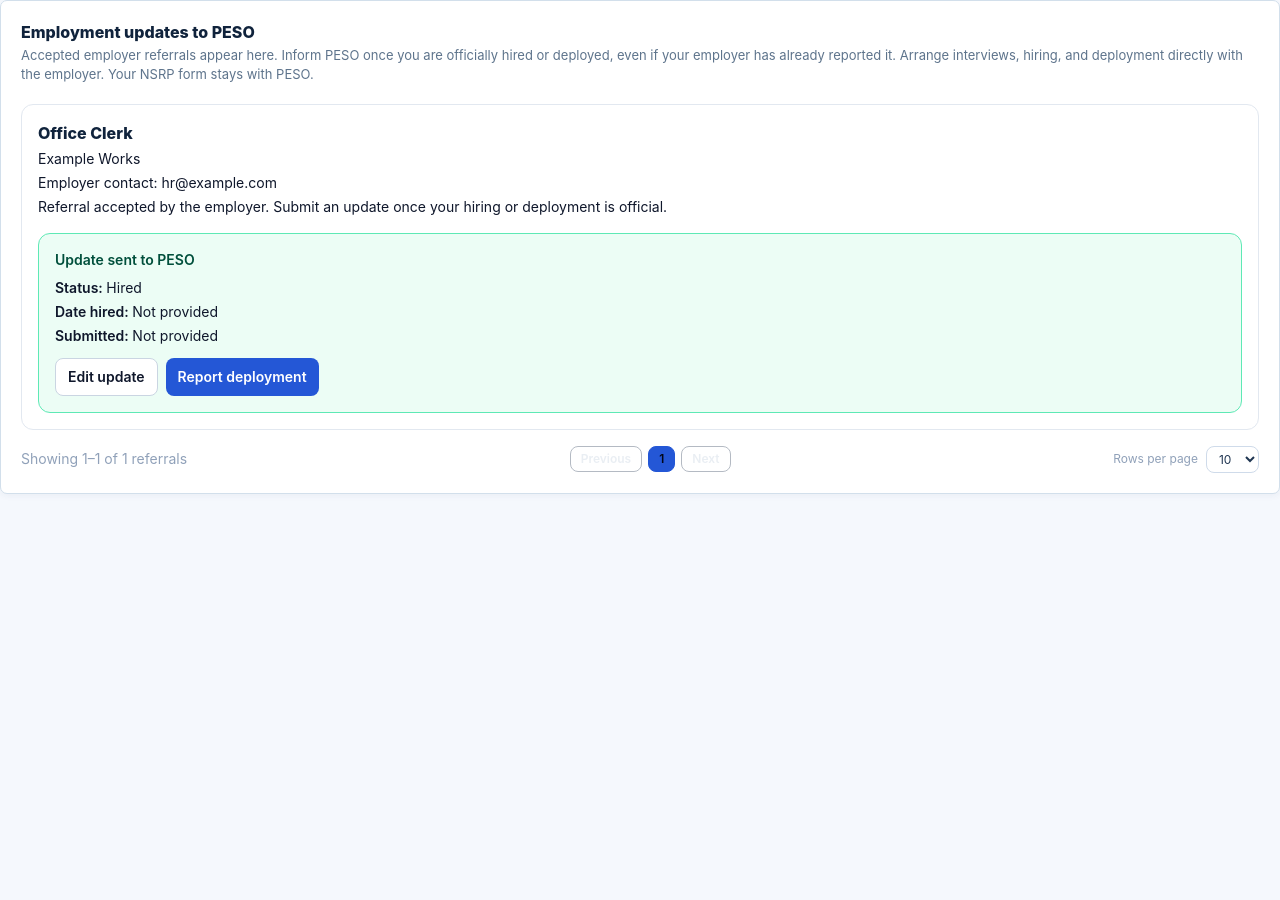
Scenario: employment updates › loads applicant opportunities and restores a previously submitted report
Check: the heading "Office Clerk" is shown, box [38, 122, 133, 142]
Check: the text "Update sent to PESO" is shown, box [55, 250, 195, 268]
Click the button "Edit update" at x=106, y=376, box [55, 358, 158, 396]
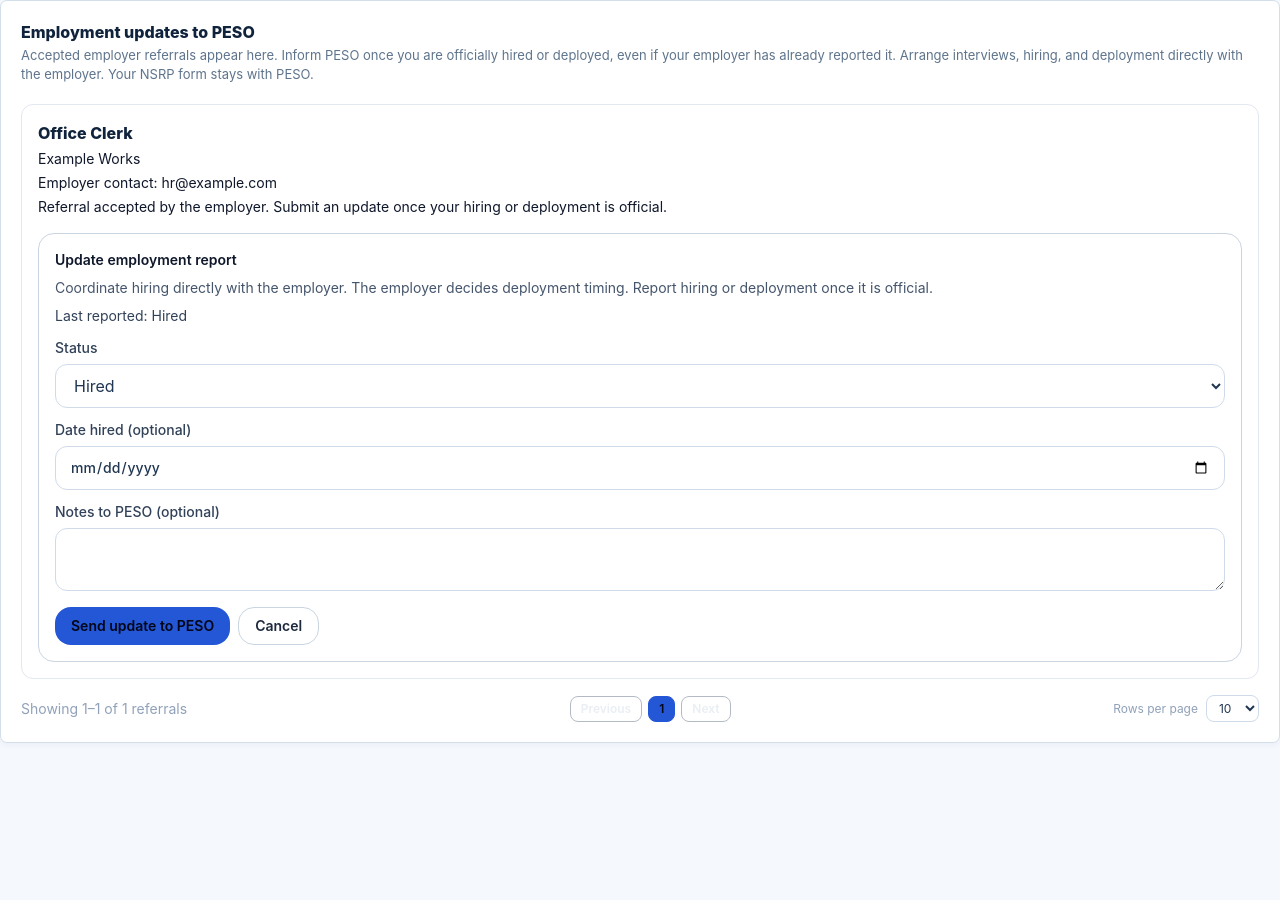
Check: the text "Employer contact: hr@example.com" is shown, box [38, 174, 277, 190]
Check: the dropdown labelled "Status" shows "Hired", box [55, 364, 1225, 408]
